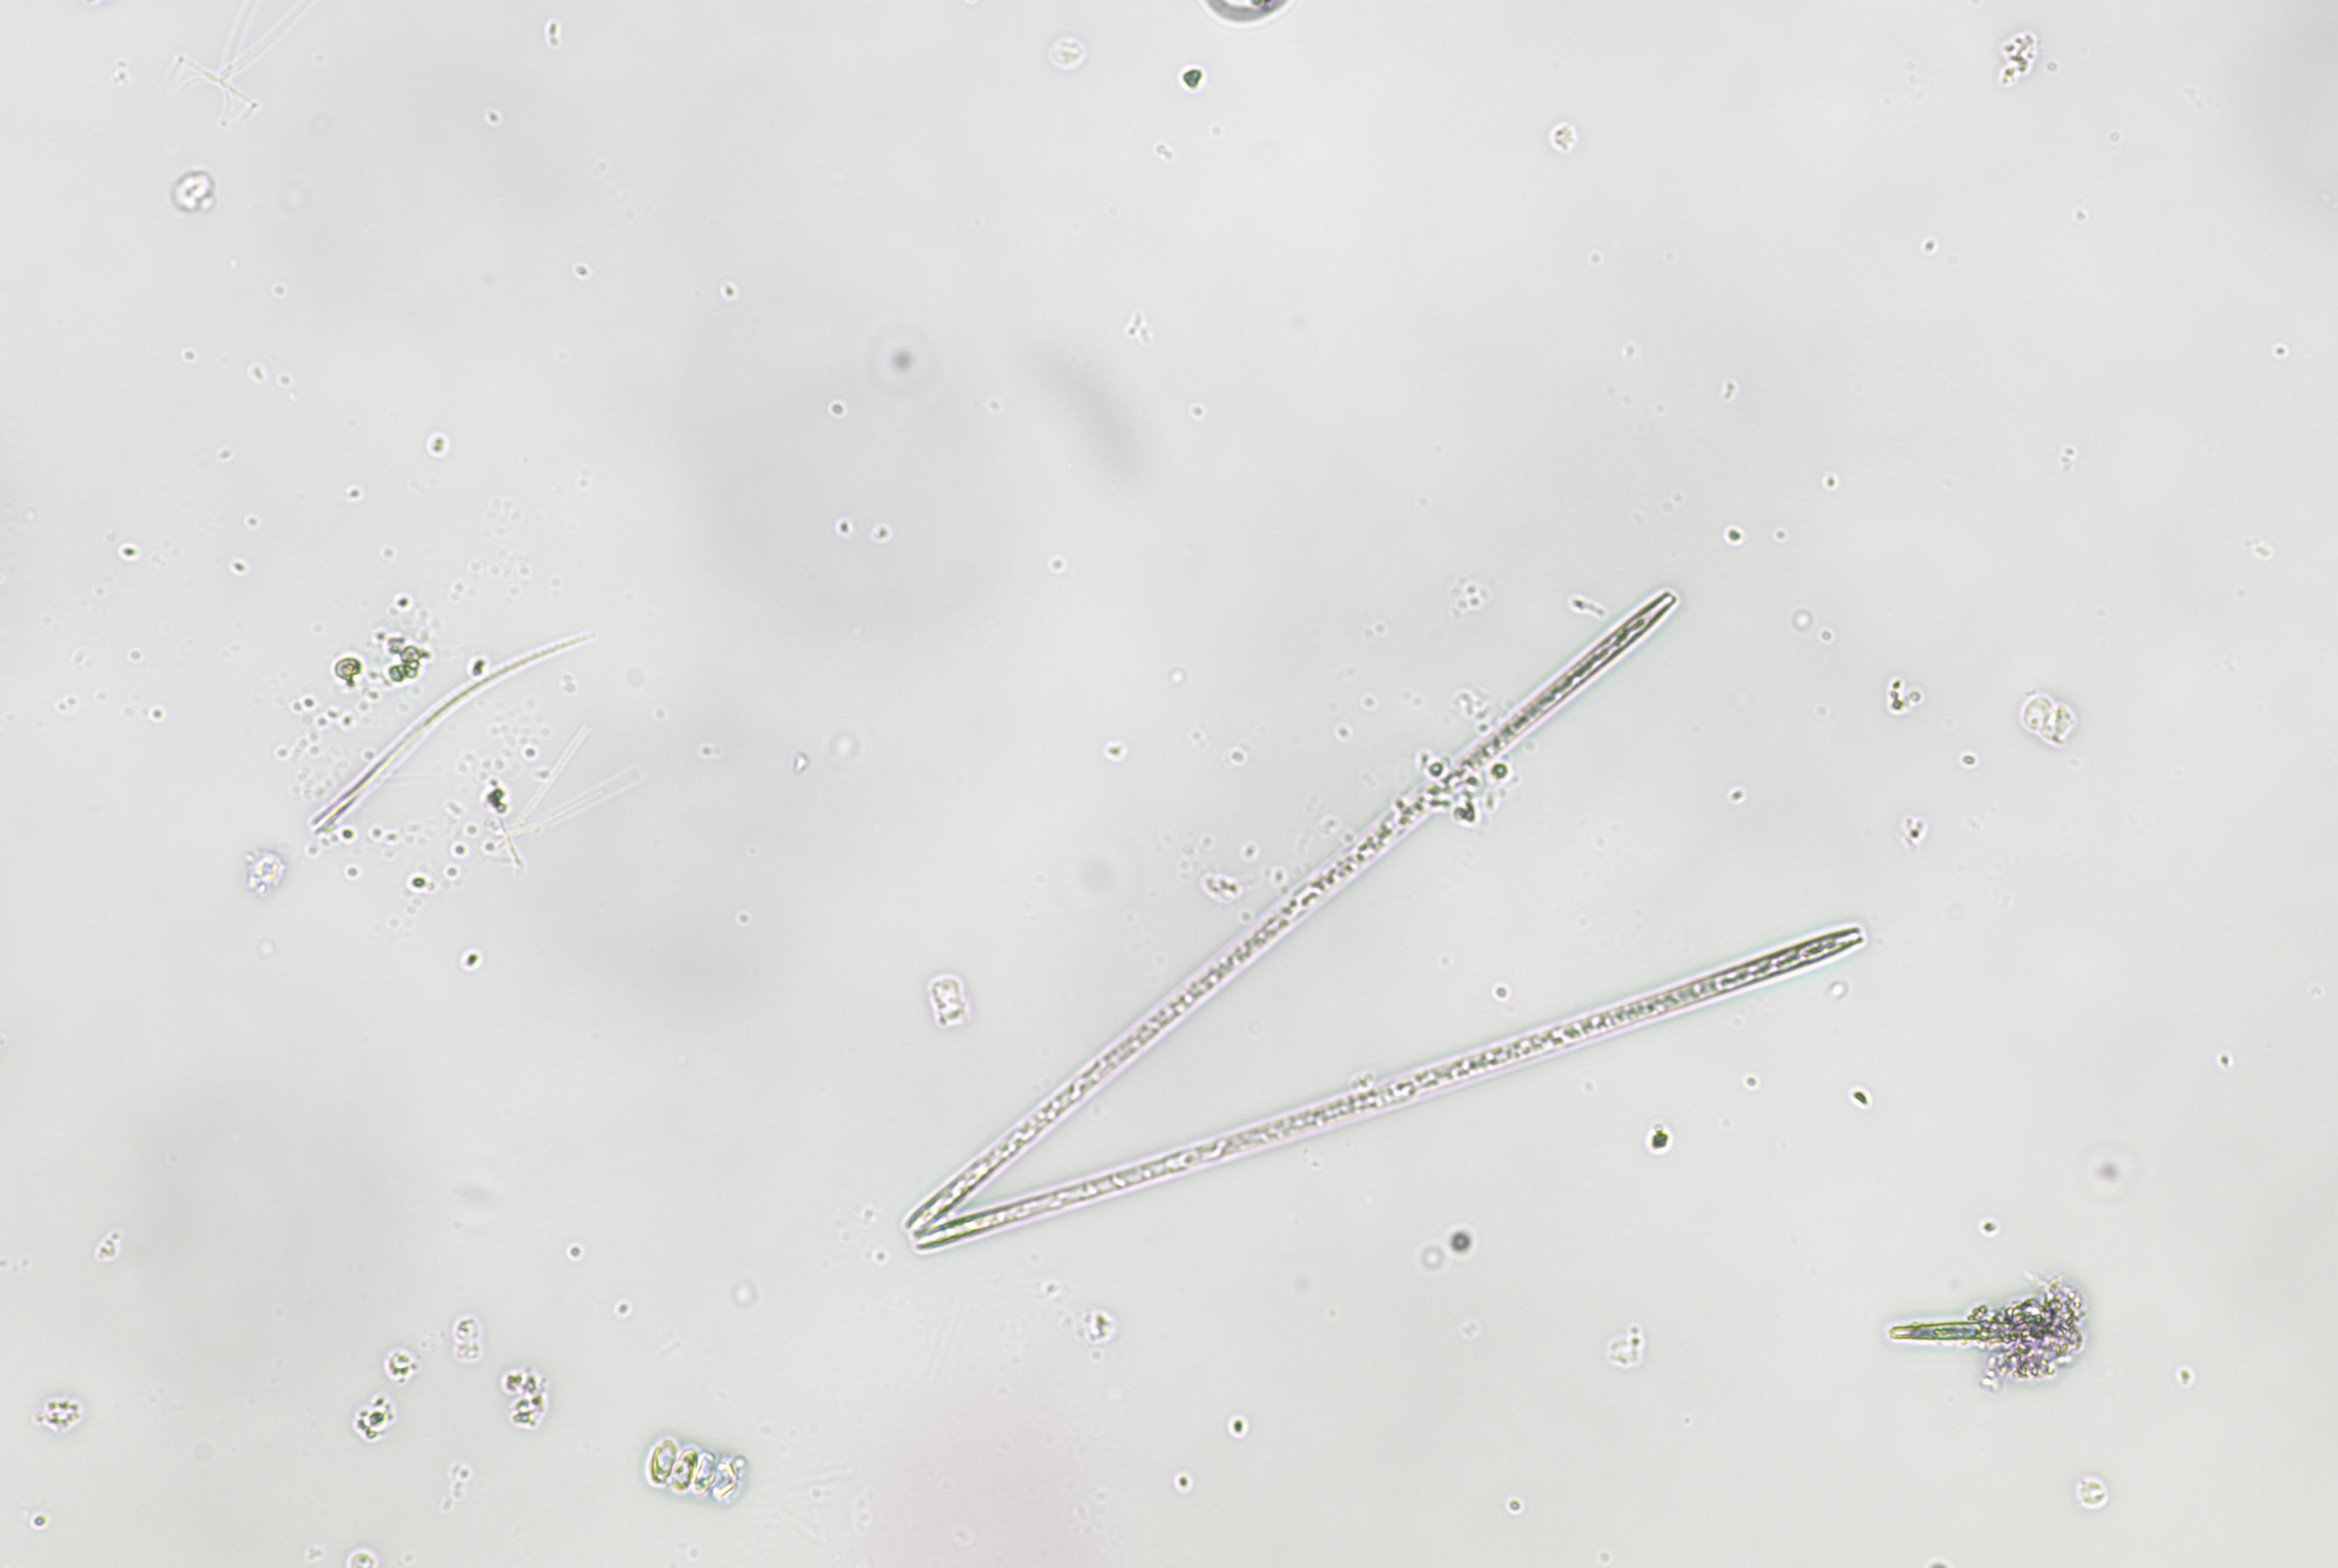thalassionema frauenfeldii: (877, 558, 1879, 1265)
